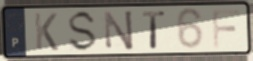6: (175, 6, 208, 53)
F: (210, 8, 242, 50)
K: (33, 11, 61, 52)
N: (102, 9, 136, 52)
S: (66, 9, 99, 53)
T: (141, 10, 167, 51)
